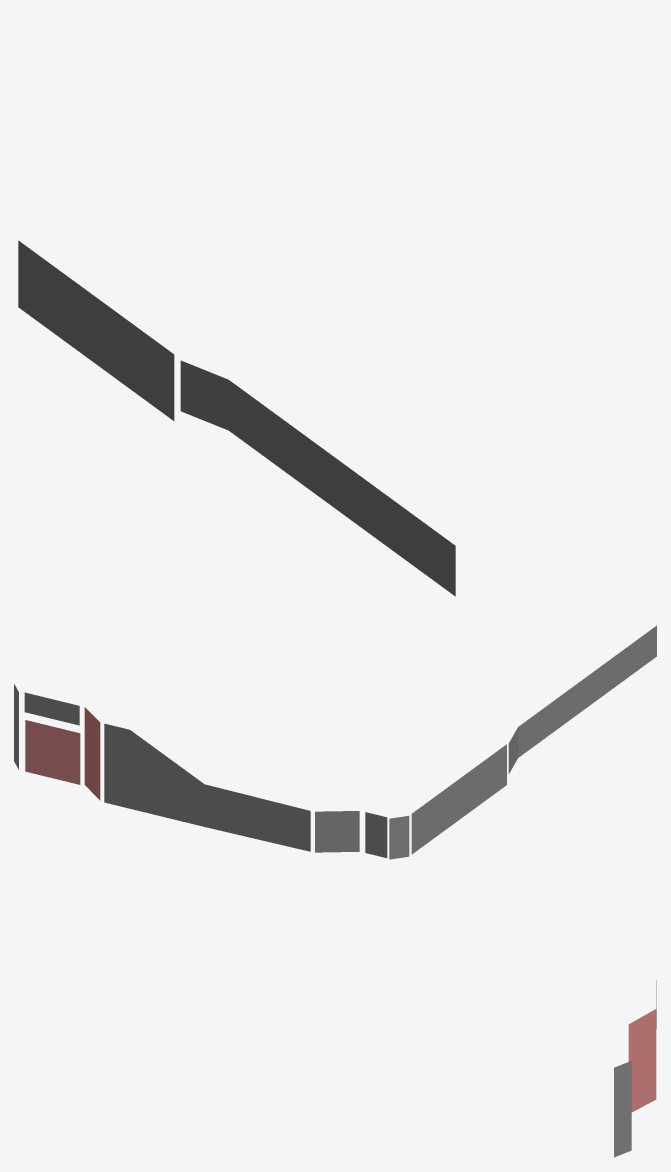
File: S_Envi_Umeda_Building_001i.gltf
3 views of the same model, one above another, from view 1: azimuth 30°, elevation 25°; view 2: azimuth 150°, elevation 25°; view 3: azimuth 270°, elevation 25° (orthographic). The views are drawn at different scales.
Visible parts, largest first — view 1: S_Envi_Umeda_Building_001i; view 2: S_Envi_Umeda_Building_001i; view 3: S_Envi_Umeda_Building_001i.
Boxes of the visible parts, bbox=[...] form: S_Envi_Umeda_Building_001i: bbox=[18, 240, 455, 596]; S_Envi_Umeda_Building_001i: bbox=[14, 625, 656, 859]; S_Envi_Umeda_Building_001i: bbox=[614, 980, 656, 1157].
Size of the model in its own units: 27.4 by 5.25 by 33.54.
